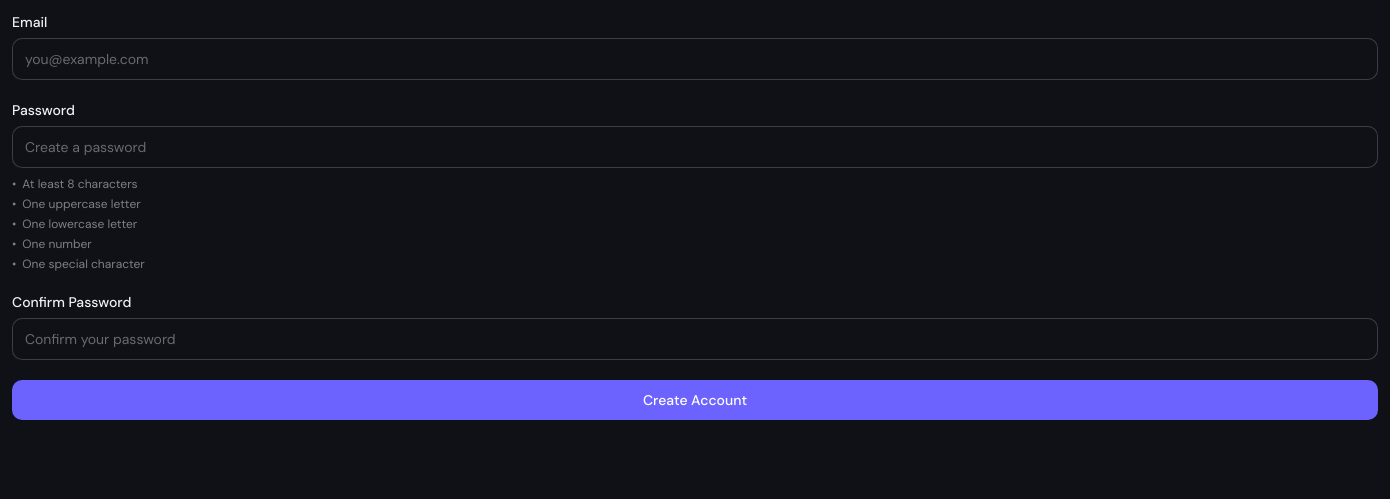
Test: SignupForm › displays server error for duplicate email
Type "existing@example.com" into the field labelled "Email".
click(695, 59); type("existing@example.com")  # box [12,38,1378,80]
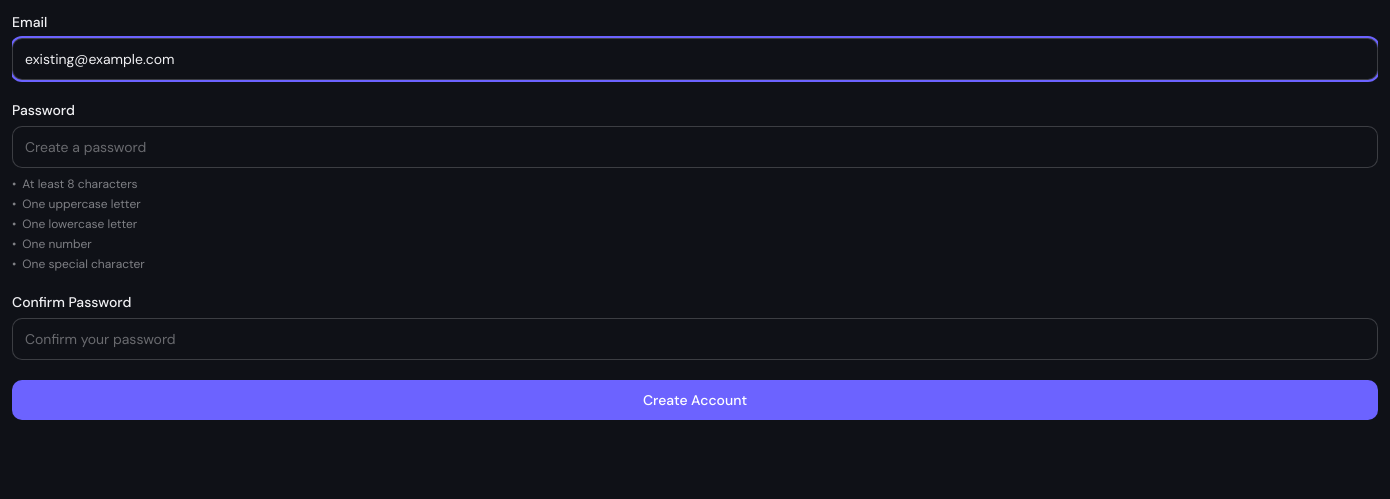
Type "StrongPass1!" into the password field labelled "Password".
click(695, 147); type("StrongPass1!")  # box [12,126,1378,168]
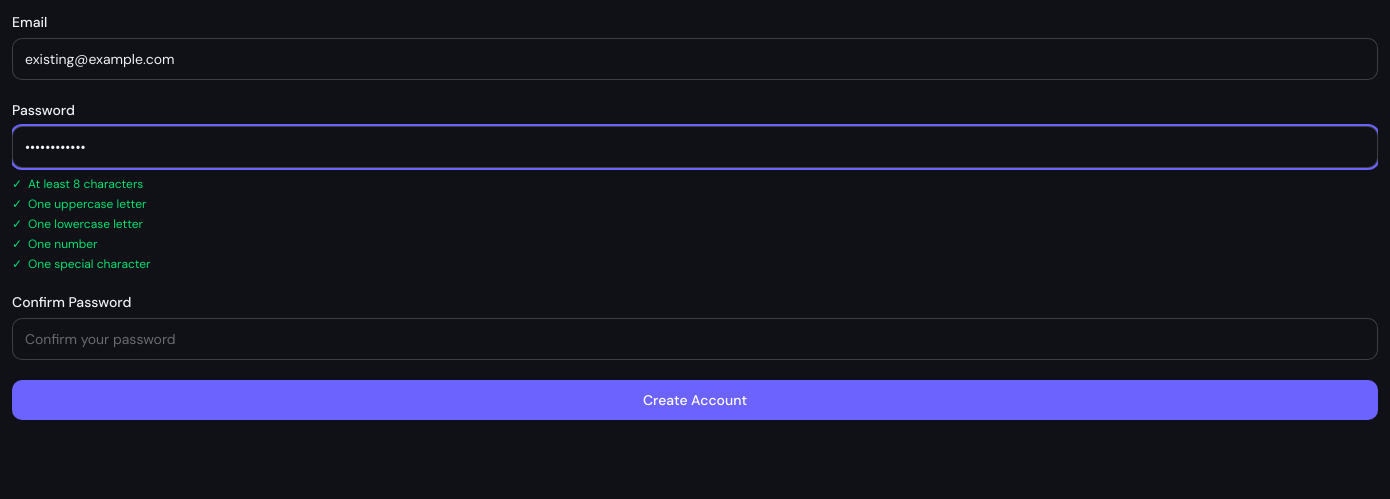
Type "StrongPass1!" into the password field labelled "Confirm Password".
click(695, 339); type("StrongPass1!")  # box [12,318,1378,360]
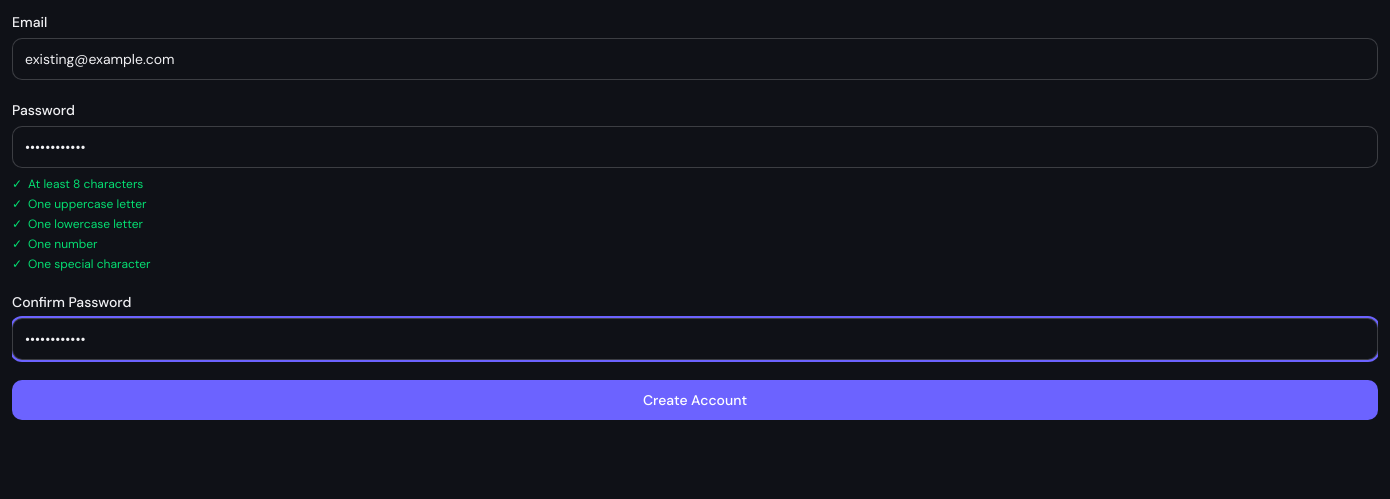
Click the button "Create Account".
click(695, 400)  # box [12,380,1378,420]
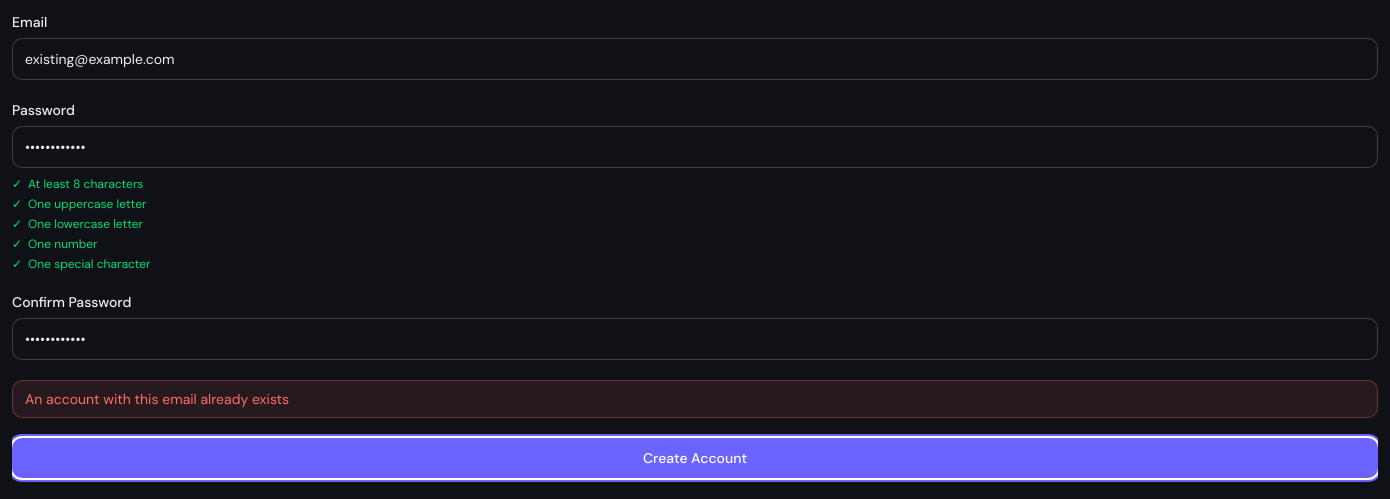
Result: the text "An account with this email already exists" is shown at [12,380,1378,418]
